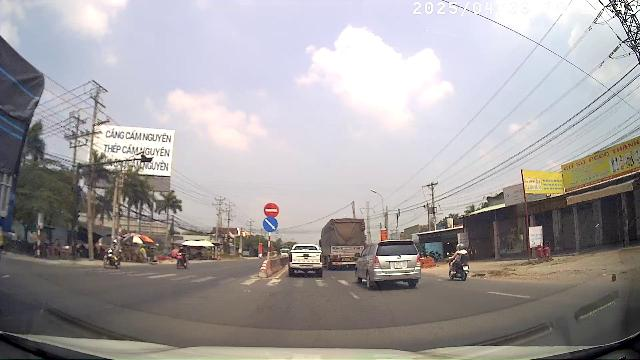102-cam-di-nguoc-chieu: (264, 203, 279, 217)
302a-huong-phai-di-vong-chuong-ngai-vat-1: (263, 217, 278, 232)
